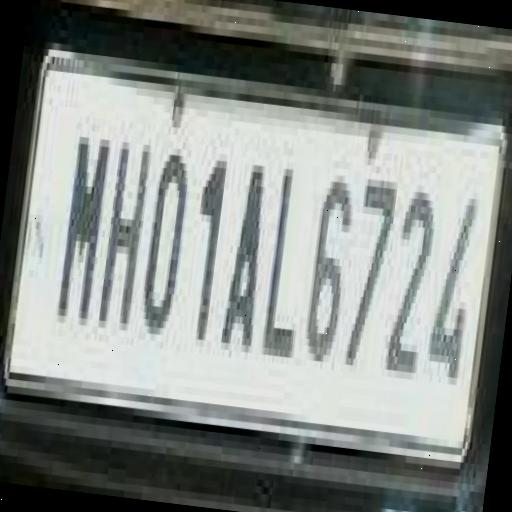number plate: (0, 40, 508, 463)
